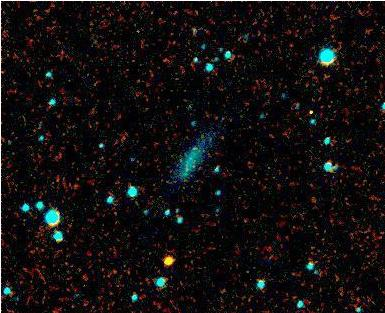star: (154, 245, 184, 275)
